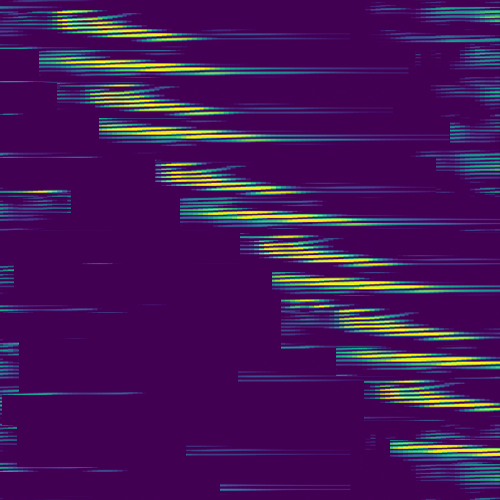semblance: (280, 297, 484, 342), (152, 157, 305, 197), (249, 231, 405, 269), (51, 7, 205, 44), (82, 80, 235, 117), (38, 47, 228, 76), (178, 202, 372, 228), (97, 117, 262, 145), (373, 377, 500, 413), (269, 269, 443, 292), (335, 347, 500, 369), (389, 438, 500, 460)
